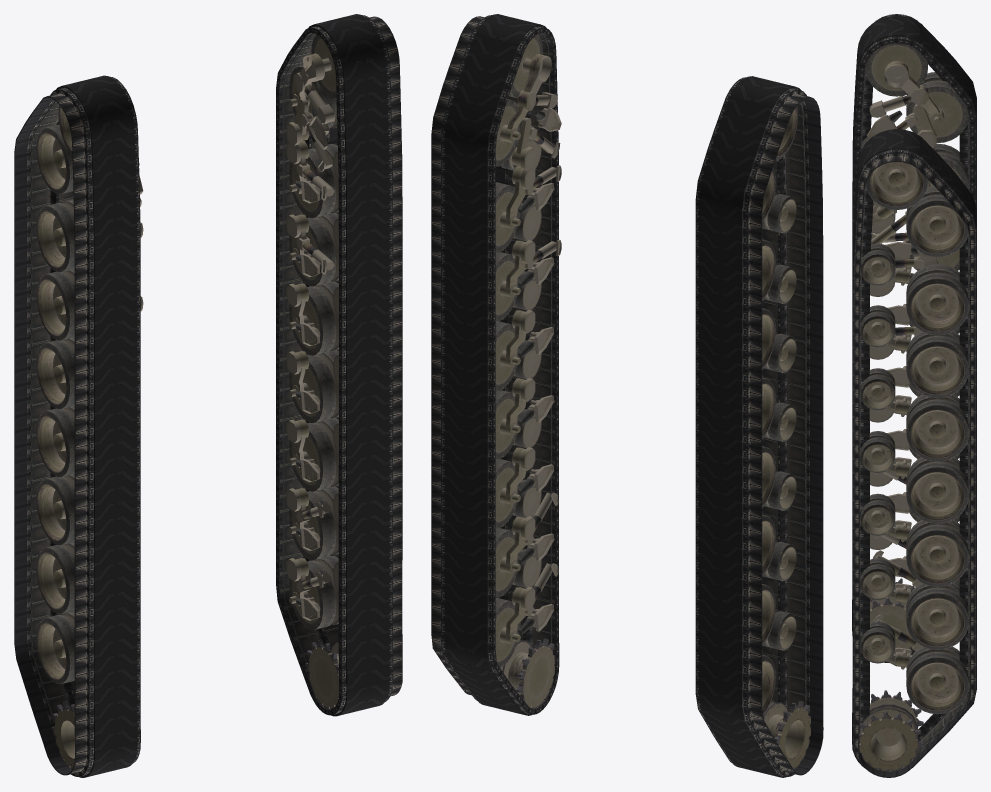
File: Chassis.glb
The picture shows the model from 3 angles, left to right: view 1: azimuth 30°, elevation 25°; view 2: azimuth 150°, elevation 25°; view 3: azimuth 270°, elevation 25°; orthographic projection. The views are drawn at different scales.
Visible parts, largest first — view 1: set_0_group_0, set_1_group_0, set_5_group_0, set_3_group_0; view 2: set_0_group_0, set_1_group_0, set_5_group_0, set_3_group_0, set_4_group_0; view 3: set_5_group_0, set_1_group_0, set_3_group_0, set_0_group_0.
Boxes of the visible parts, <box> form: set_0_group_0: <box>14,75,140,777</box>; set_1_group_0: <box>276,14,402,716</box>; set_5_group_0: <box>286,34,393,709</box>; set_3_group_0: <box>36,105,143,769</box>; set_0_group_0: <box>695,76,823,777</box>; set_1_group_0: <box>431,14,559,715</box>; set_5_group_0: <box>476,34,561,712</box>; set_3_group_0: <box>762,106,810,775</box>; set_4_group_0: <box>500,463,535,573</box>; set_5_group_0: <box>854,161,968,771</box>; set_1_group_0: <box>852,129,976,777</box>; set_3_group_0: <box>861,43,968,648</box>; set_0_group_0: <box>852,14,976,662</box>.
Bounding box in the file's own units: 3.66 × 7.3 × 1.32.
Materials: 6 (6 with a texture image).
